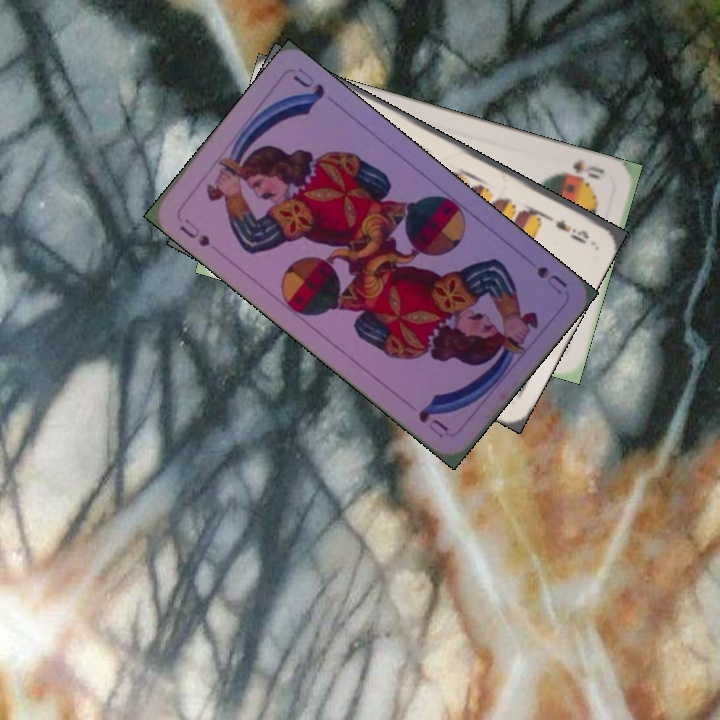E9: (539, 210, 592, 247)
SO: (568, 155, 607, 182)
SU: (175, 214, 213, 250), (532, 262, 570, 297)
